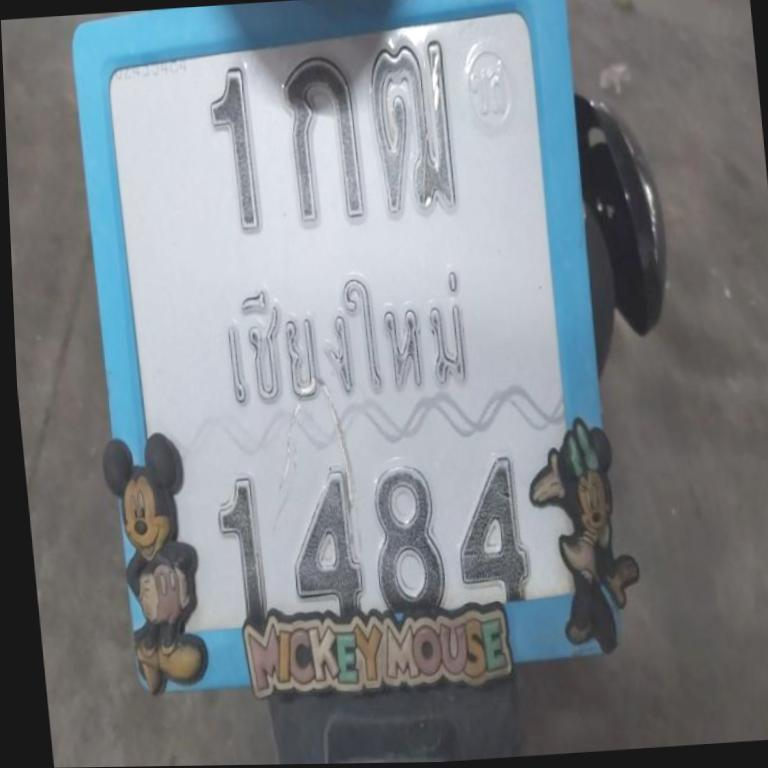license plate: (52, 0, 654, 711)
